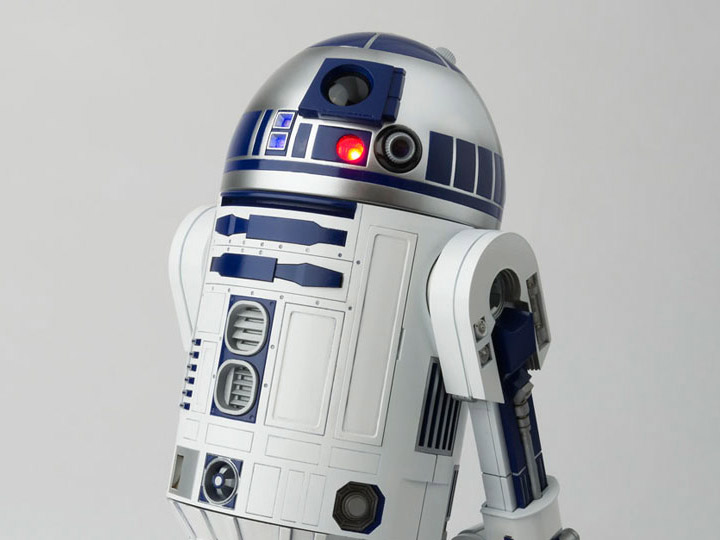r2d2: (166, 31, 583, 538)
